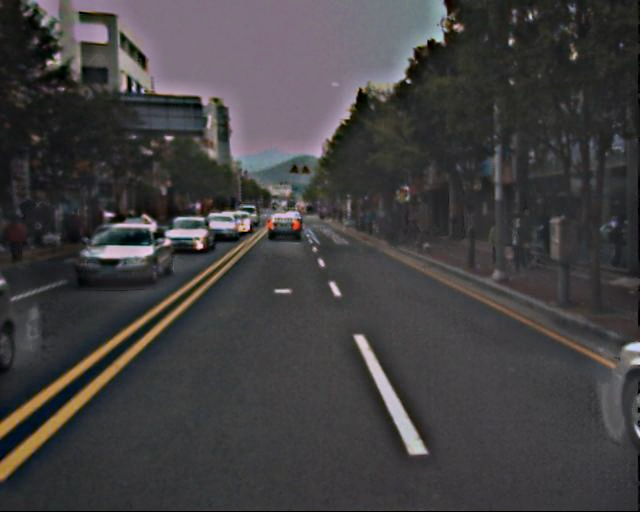person: (506, 214, 530, 272), (487, 221, 506, 267)
